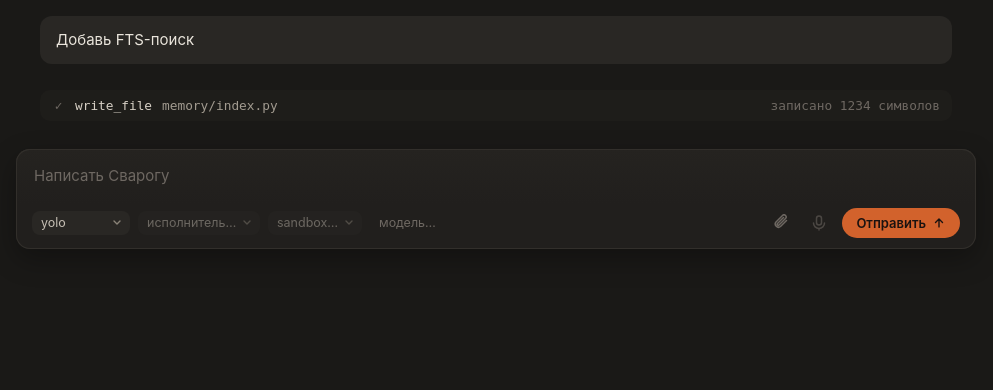
it: экран диалога › отправляет сообщение в текущую сессию
Expected: the text "Добавь FTS-поиск" is shown, [56,30,194,49]
Type "прогони тесты" into the dropdown labelled "Написать Сварогу" at (496,176), box [32,163,960,189]
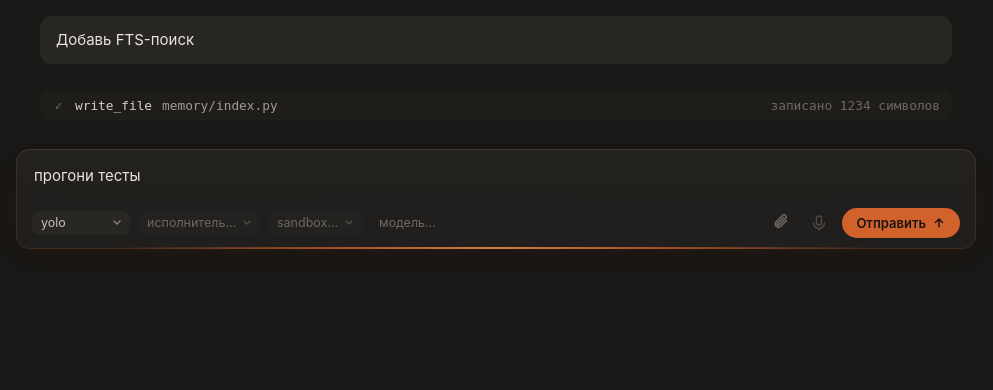
Click the button "Отправить" at (901,223), box [842,208,960,238]
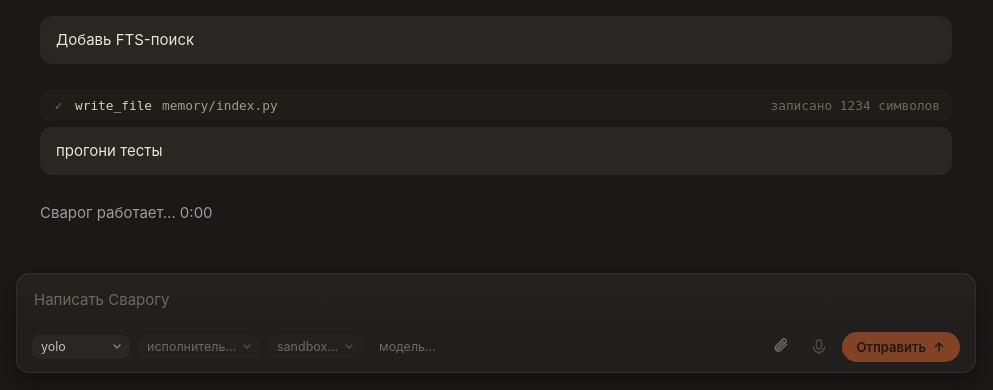
Now the text "прогони тесты" is shown, box [56,141,162,160]
